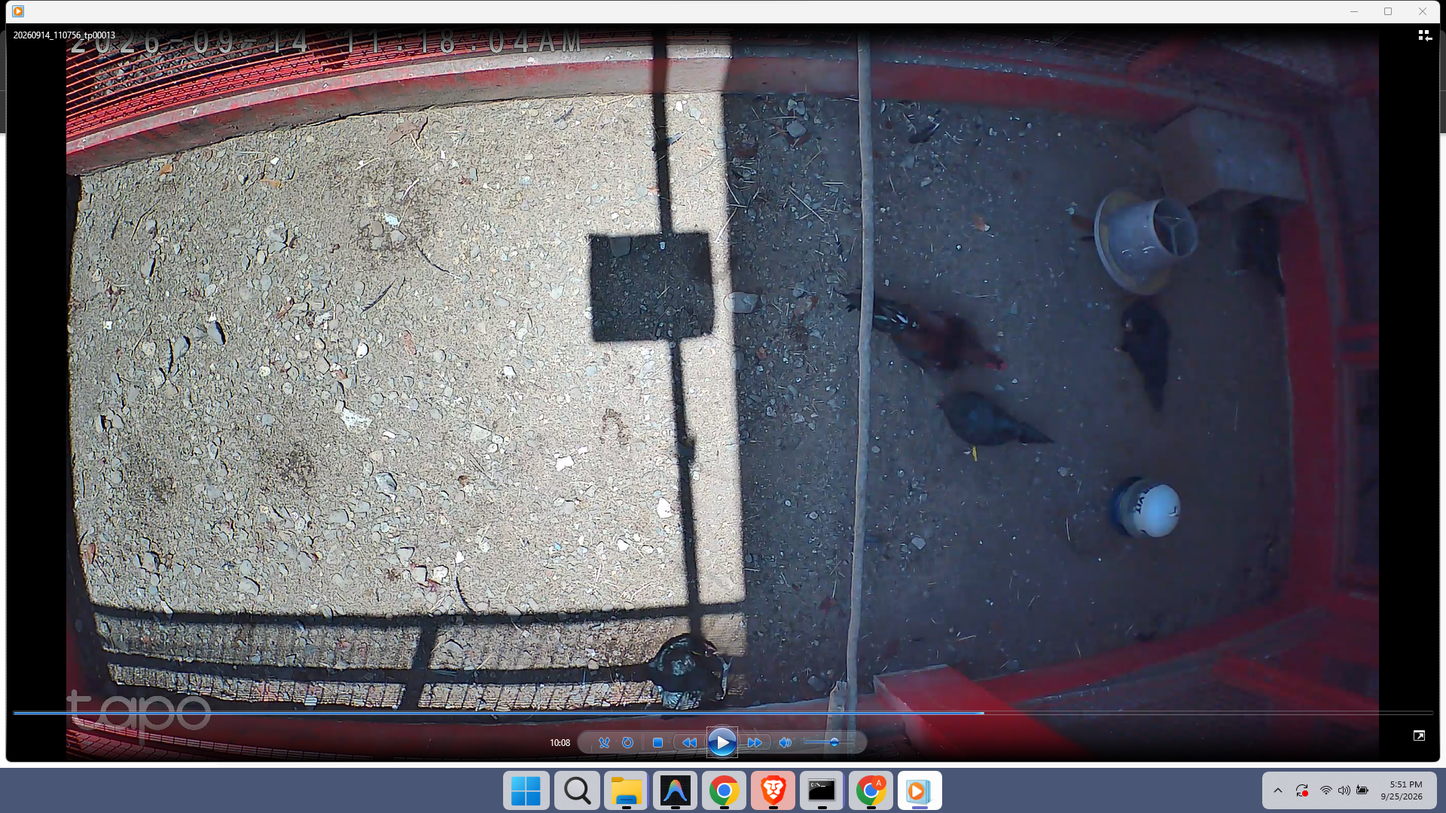Chicken: (930, 387, 1058, 465), (1111, 296, 1178, 418), (1220, 201, 1293, 299), (652, 637, 731, 721)
Drinker: (1104, 475, 1190, 541)
Feeder: (1088, 186, 1203, 298)
Leg_Band_Yellow: (971, 443, 981, 464)
Rooster: (839, 281, 1012, 373)
